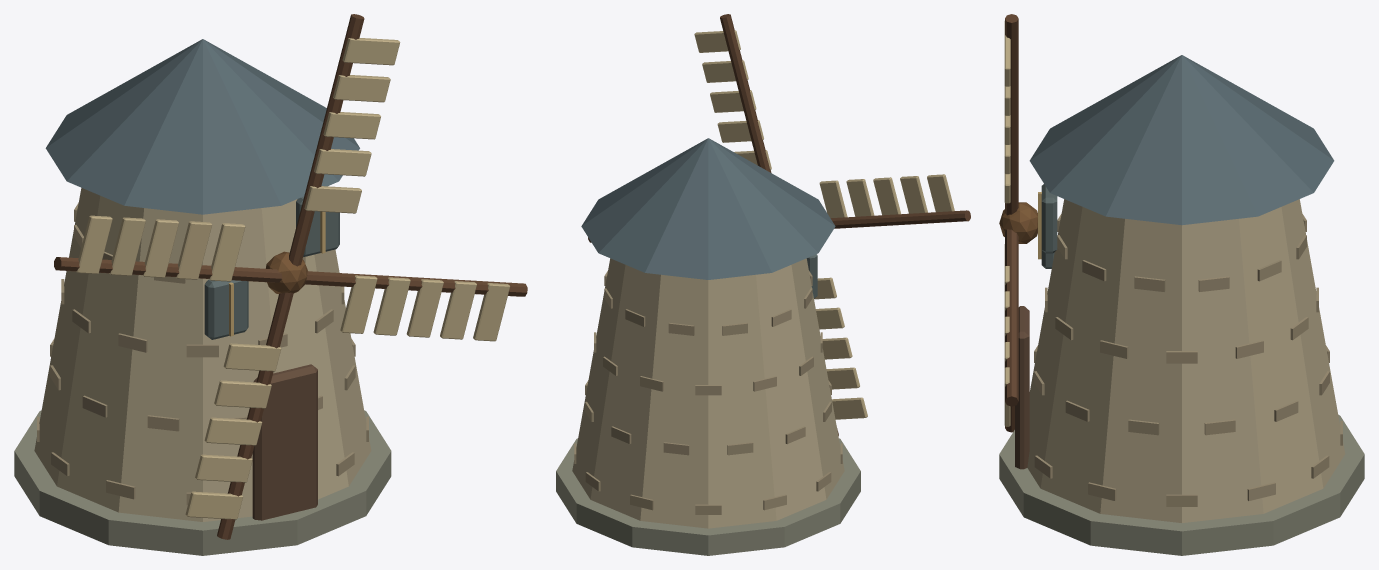
The model's file is pack-windmill.glb.
3 views of the same model, side by side, from view 1: azimuth 30°, elevation 25°; view 2: azimuth 150°, elevation 25°; view 3: azimuth 270°, elevation 25° (orthographic). The views are drawn at different scales.
Visible parts, largest first — view 1: SculptedModel, Rotor; view 2: SculptedModel, Rotor; view 3: SculptedModel, Rotor.
Part boxes in pixels (<box>): SculptedModel: <box>14,39,391,555</box>; Rotor: <box>54,14,527,539</box>; SculptedModel: <box>556,138,860,555</box>; Rotor: <box>588,14,970,435</box>; SculptedModel: <box>999,55,1364,555</box>; Rotor: <box>999,14,1037,432</box>.
Size of the model in its own units: 5.03 by 5.22 by 3.5.
